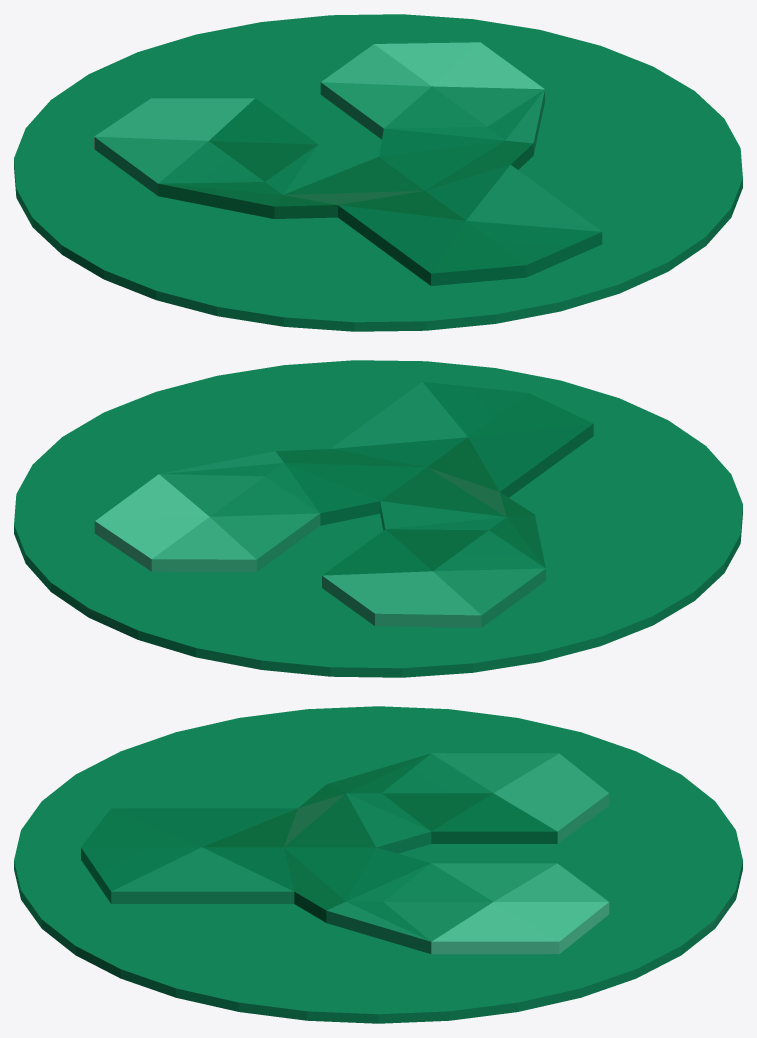
The model's file is yepti.glb.
The picture shows the model from 3 angles, top to bottom: view 1: azimuth 30°, elevation 25°; view 2: azimuth 150°, elevation 25°; view 3: azimuth 270°, elevation 25°; orthographic projection.
Parts seen in each view (by area): view 1: Cylinder; view 2: Cylinder; view 3: Cylinder.
Boxes of the visible parts, <box> form: Cylinder: <box>14,14,742,331</box>; Cylinder: <box>14,360,742,677</box>; Cylinder: <box>14,706,742,1023</box>.
Size of the model in its own units: 0.14 by 0.00714 by 0.14.
